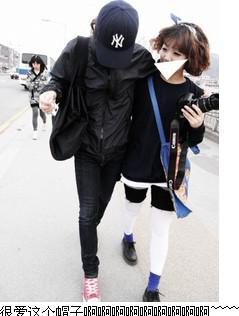NONE: (35, 63, 41, 71)
WRONG: (157, 41, 189, 73)
